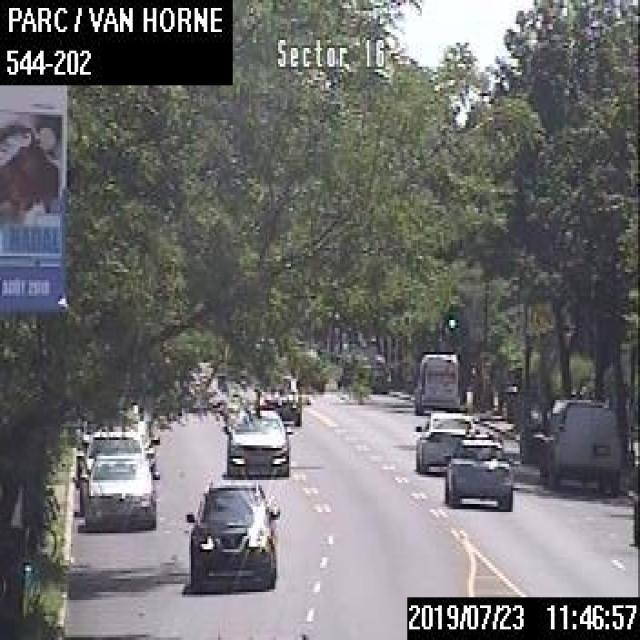vehicle: (184, 475, 279, 592), (540, 395, 620, 493), (77, 426, 157, 518), (78, 449, 159, 528), (442, 435, 512, 508), (222, 406, 291, 477), (413, 411, 479, 471), (413, 347, 462, 413), (253, 369, 303, 424)
